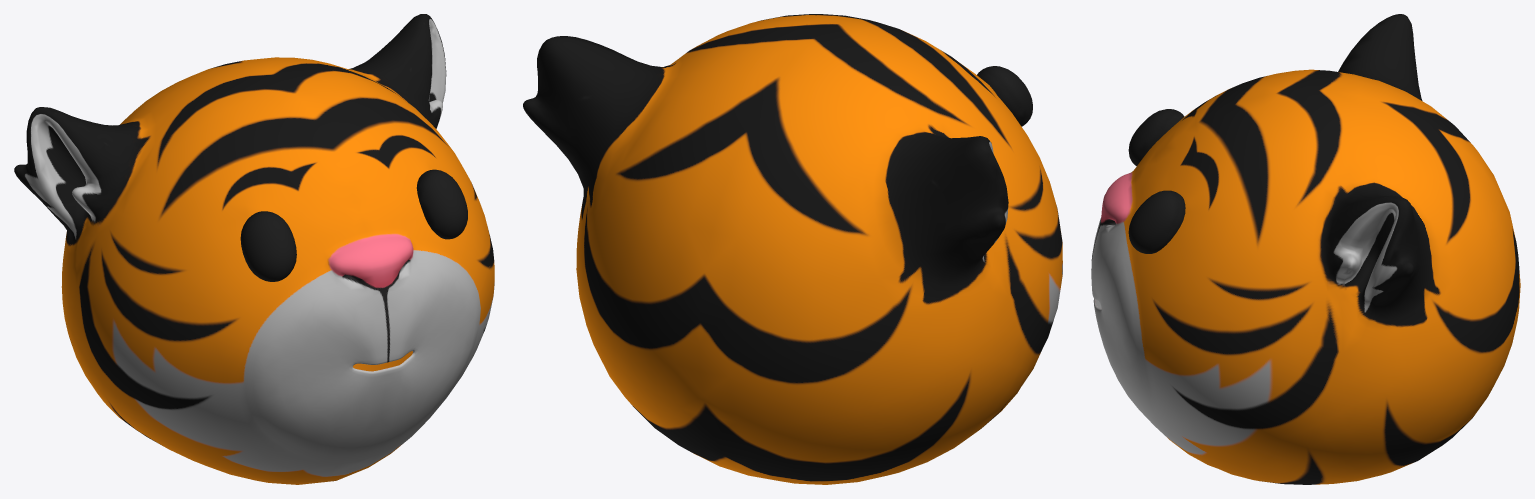
The model's file is tiger.glb.
3 renders of one model, left to right at view 1: azimuth 30°, elevation 25°; view 2: azimuth 150°, elevation 25°; view 3: azimuth 270°, elevation 25°, orthographic. The views are drawn at different scales.
Visible parts, largest first — view 1: tigerHeadEyesOutside; view 2: tigerHeadEyesOutside; view 3: tigerHeadEyesOutside.
Part boxes in pixels (x1,y1,x2,y2): tigerHeadEyesOutside: (14, 14, 494, 484); tigerHeadEyesOutside: (523, 14, 1062, 484); tigerHeadEyesOutside: (1091, 14, 1520, 484).
Bounding box in the file's own units: 323 × 275 × 285.
1 material, 1 textured.
